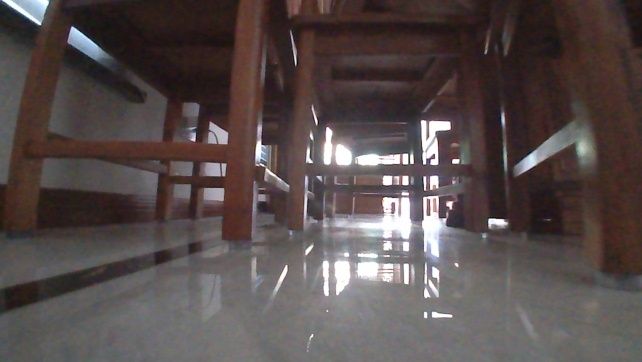dining_table1: (0, 0, 641, 281)
wire: (206, 128, 225, 177)
